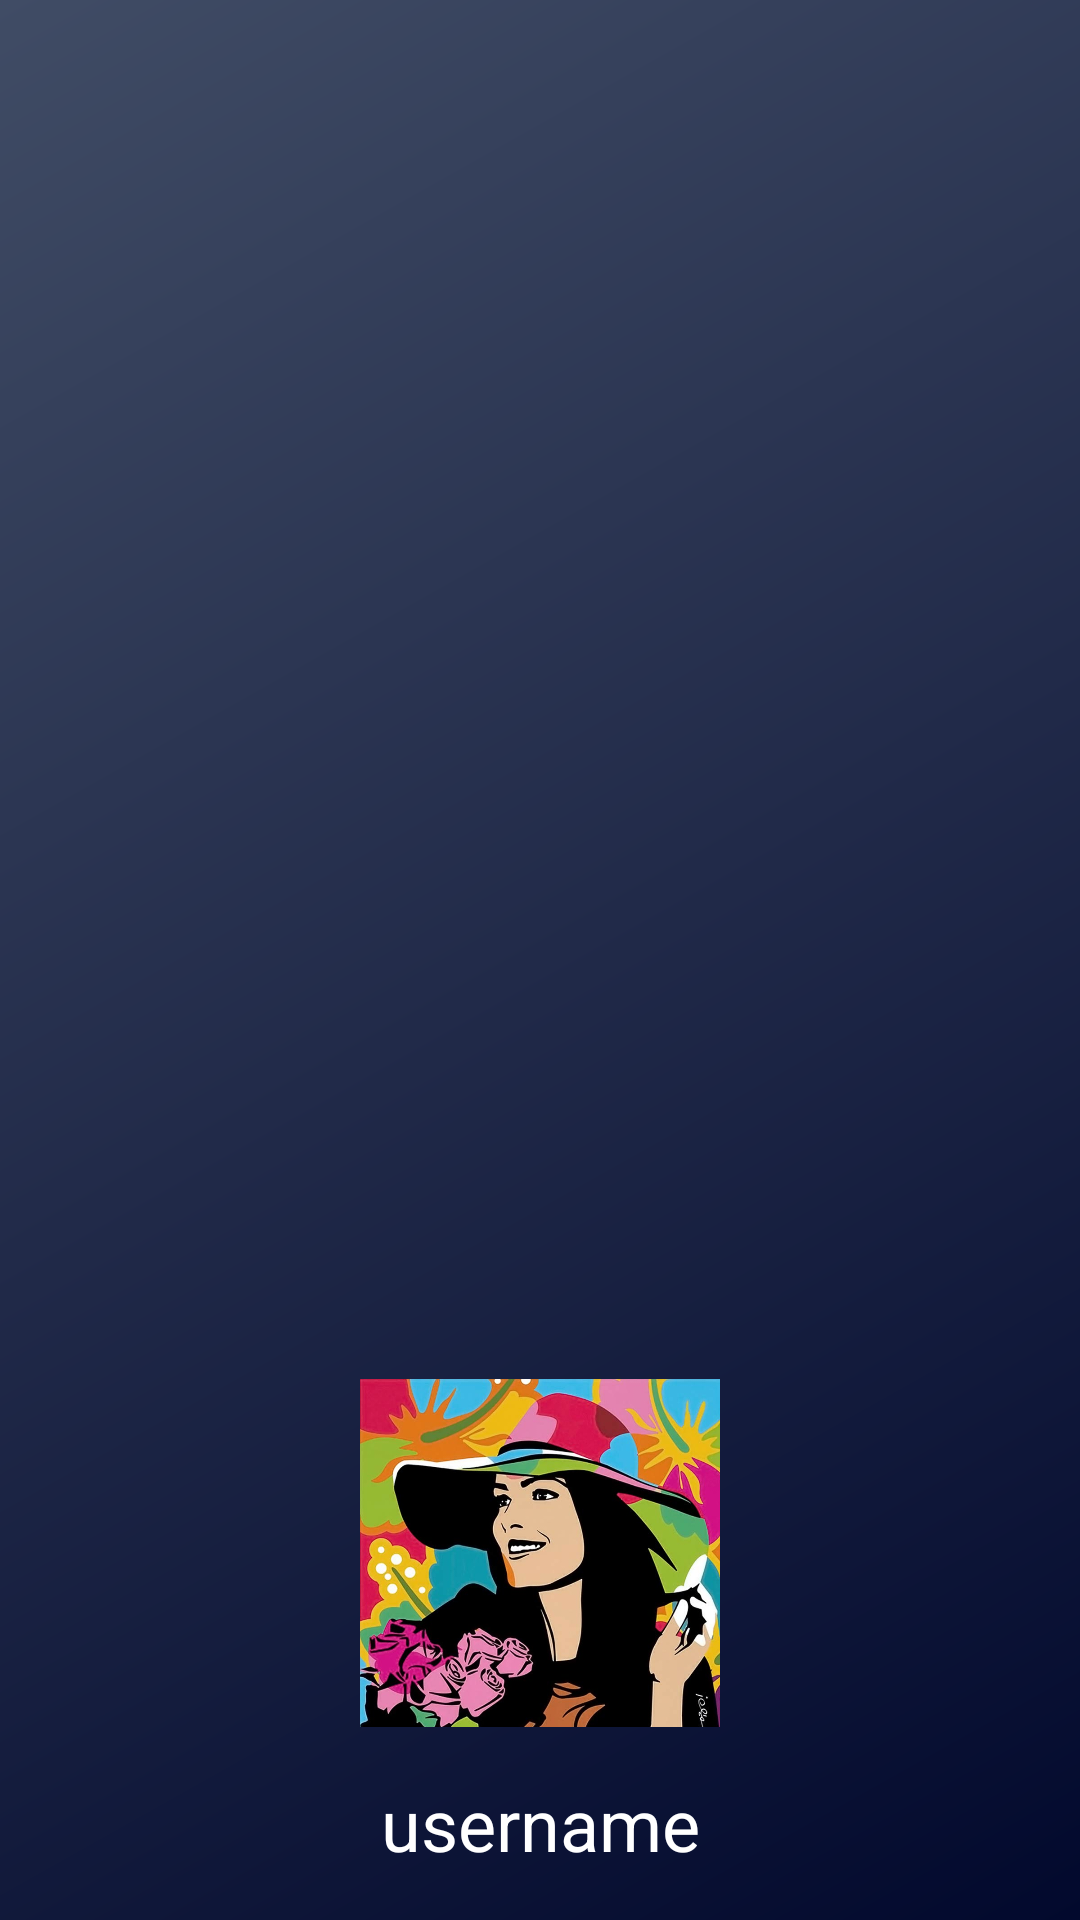

Icons on this 1080px×1920px Android screen, each with the point to tap as (x,y):
foto perfil: (540,1553)
